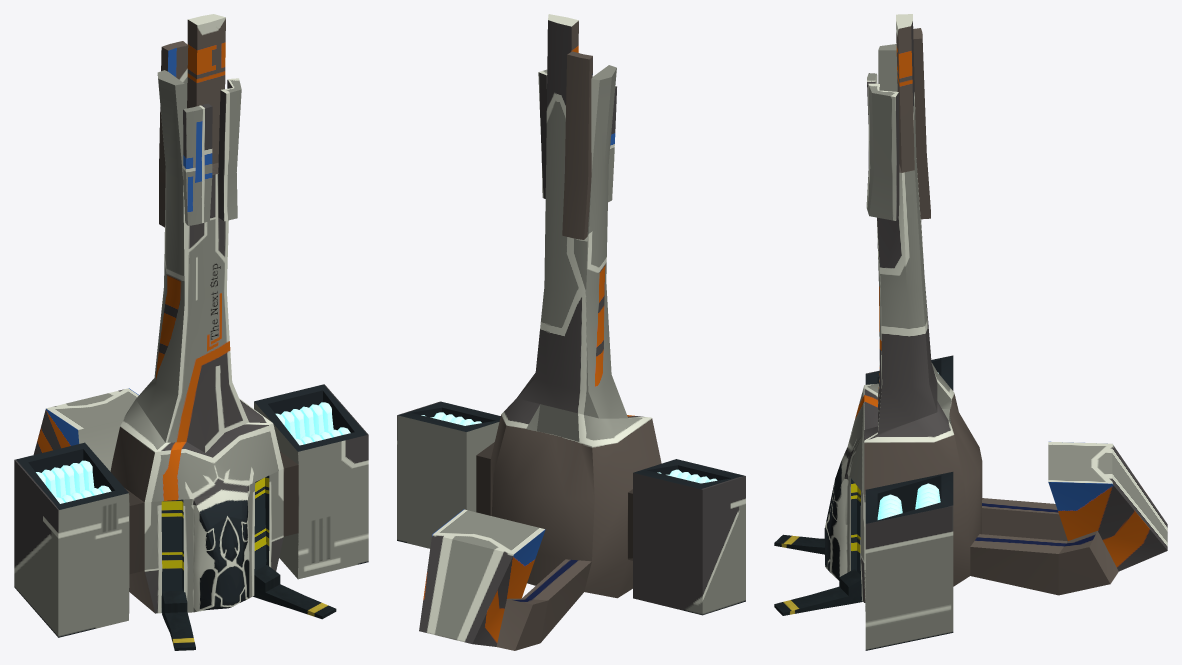
Rendered from landing ship.fbx.
3 renders of one model, left to right at view 1: azimuth 30°, elevation 25°; view 2: azimuth 150°, elevation 25°; view 3: azimuth 270°, elevation 25°, orthographic.
Visible parts, largest first — view 1: pCube20, pCube74, resourbuildes_and:polySurface1, resourbuildes_and:polySurface2; view 2: pCube20, pCube74; view 3: pCube20, resourbuildes_and:polySurface1, pCube74, resourbuildes_and:polySurface2.
Part boxes in pixels (box(x1,y1,x2,y2)): pCube20: box(14, 14, 368, 637); pCube74: box(36, 402, 350, 503); resourbuildes_and:polySurface1: box(253, 565, 336, 619); resourbuildes_and:polySurface2: box(162, 590, 195, 650); pCube20: box(397, 14, 745, 650); pCube74: box(421, 412, 717, 483); pCube20: box(824, 14, 1167, 650); resourbuildes_and:polySurface1: box(774, 569, 862, 615); pCube74: box(877, 372, 940, 519); resourbuildes_and:polySurface2: box(774, 534, 824, 554).
Bounding box in the file's own units: 30.48 × 53.02 × 33.68.
